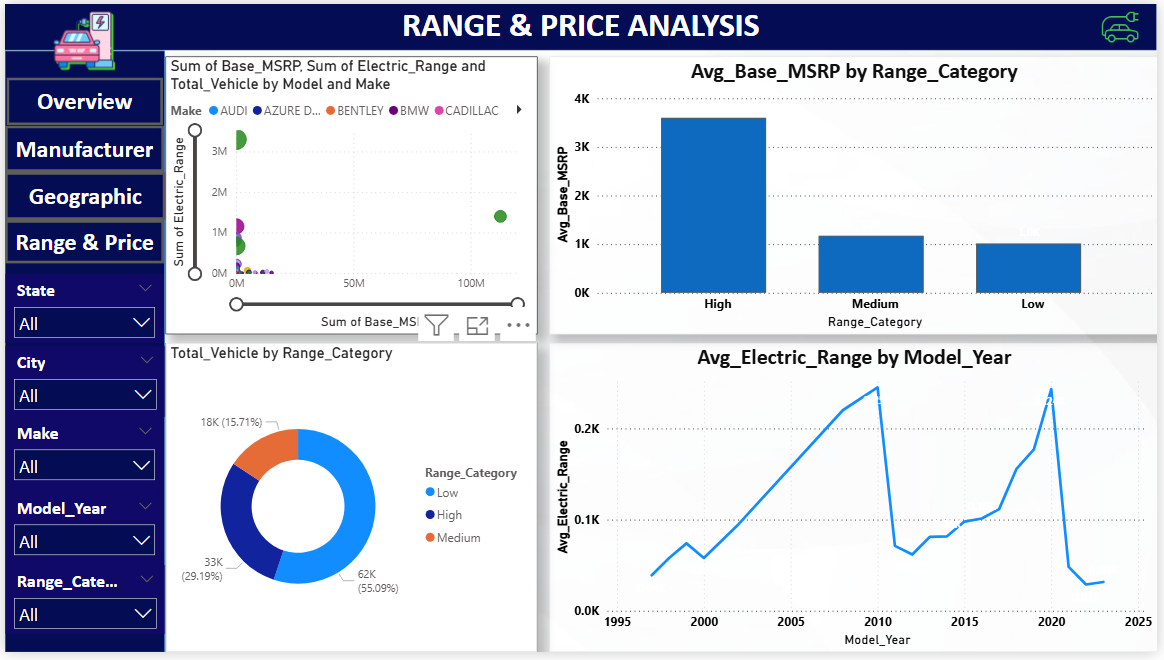

What the dashboard file says about the page in this screenshot:
{"tool":"powerbi","page":{"name":"Range & Price","canvas":[1280,720],"ordinal":3},"visuals":[{"type":"shape","title":"RANGE & PRICE ANALYSIS","box":[0,0,1279.4,51],"z":0},{"type":"shape","box":[0,51,177.6,669],"z":1000},{"type":"actionButton","box":[0,186.7,178.3,53.3],"z":2000},{"type":"actionButton","box":[1.9,81.3,173.9,52.9],"z":3000},{"type":"actionButton","box":[0,240,176.7,48.3],"z":4000},{"type":"actionButton","box":[0,135,176.7,51.7],"z":5000},{"type":"slicer","fields":{"Values":["Electric_Vehicle.Make"]},"box":[0,458.3,176.7,83.3],"z":6000},{"type":"slicer","fields":{"Values":["Electric_Vehicle.Model_Year"]},"box":[0,541.7,176.7,81.7],"z":7000},{"type":"slicer","fields":{"Values":["Electric_Vehicle.City"]},"box":[0,380,178.3,78.3],"z":8000},{"type":"slicer","fields":{"Values":["Electric_Vehicle.State"]},"box":[0,300,176.7,76.7],"z":9000},{"type":"slicer","fields":{"Values":["Electric_Vehicle.Range_Category"]},"box":[0,623.3,178.3,76.7],"z":10000},{"type":"scatterChart","fields":{"X":["Sum(Electric_Vehicle.Base_MSRP)"],"Y":["Sum(Electric_Vehicle.Electric_Range)"],"Series":["Electric_Vehicle.Make"],"Size":["NEW_MEASURES.Total_Vehicle"],"Category":["Electric_Vehicle.Model"]},"box":[178.1,58.9,413.6,308.6],"z":11000},{"type":"clusteredColumnChart","fields":{"Y":["NEW_MEASURES.Avg_Base_MSRP"],"Category":["Electric_Vehicle.Range_Category"]},"box":[604.4,58.9,676,308.6],"z":12000},{"type":"donutChart","fields":{"Category":["Electric_Vehicle.Range_Category"],"Y":["NEW_MEASURES.Total_Vehicle"]},"box":[178.1,377,413.6,343.6],"z":13000},{"type":"lineChart","fields":{"Category":["Electric_Vehicle.Model_Year"],"Y":["NEW_MEASURES.Avg_Electric_Range"]},"box":[604.4,377,676,343.6],"z":14000},{"type":"image","box":[1196.1,0,84.3,50.9],"z":14001},{"type":"image","box":[0,0,176.6,81.1],"z":14002}]}

Visuals, with their boxes in screenshot pixels (x1, y1, x2, y2), scaled from the page's 1280x720 canvas onto the 1164x660 screenshot:
"RANGE & PRICE ANALYSIS" shape: [0, 0, 1163, 47]
shape: [0, 47, 162, 659]
actionButton: [0, 171, 162, 220]
actionButton: [2, 75, 160, 123]
actionButton: [0, 220, 161, 264]
actionButton: [0, 124, 161, 171]
slicer - Electric_Vehicle.Make: [0, 420, 161, 496]
slicer - Electric_Vehicle.Model_Year: [0, 497, 161, 571]
slicer - Electric_Vehicle.City: [0, 348, 162, 420]
slicer - Electric_Vehicle.State: [0, 275, 161, 345]
slicer - Electric_Vehicle.Range_Category: [0, 571, 162, 642]
scatterChart - Sum(Electric_Vehicle.Base_MSRP) x Sum(Electric_Vehicle.Electric_Range): [162, 54, 538, 337]
clusteredColumnChart - NEW_MEASURES.Avg_Base_MSRP x Electric_Vehicle.Range_Category: [550, 54, 1163, 337]
donutChart - Electric_Vehicle.Range_Category x NEW_MEASURES.Total_Vehicle: [162, 346, 538, 659]
lineChart - Electric_Vehicle.Model_Year x NEW_MEASURES.Avg_Electric_Range: [550, 346, 1163, 659]
image: [1088, 0, 1163, 47]
image: [0, 0, 161, 74]
